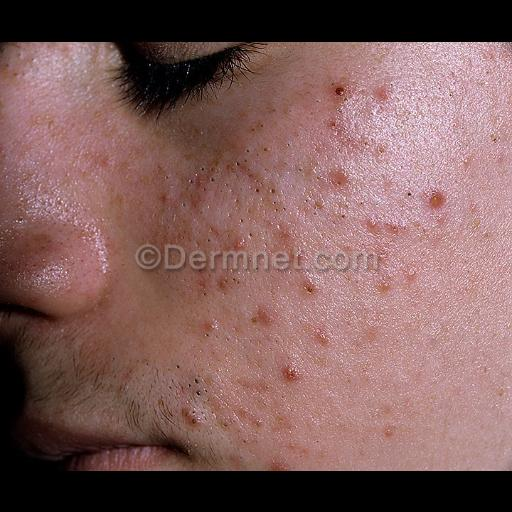Skin_Lesion: (182, 160, 222, 188), (421, 186, 449, 214), (188, 372, 212, 402), (181, 400, 205, 426), (232, 152, 258, 176), (194, 264, 210, 302), (256, 178, 282, 200), (366, 138, 392, 160), (318, 114, 344, 134), (328, 170, 350, 192), (240, 406, 262, 428), (389, 214, 409, 238), (330, 77, 348, 103), (216, 268, 232, 296), (364, 208, 380, 236), (229, 234, 251, 254), (374, 276, 394, 298), (310, 194, 328, 218), (314, 323, 332, 347), (300, 278, 320, 298), (374, 84, 394, 104), (372, 245, 390, 267), (274, 220, 292, 242), (174, 223, 190, 247), (251, 306, 269, 326), (280, 364, 300, 382), (98, 152, 118, 170), (204, 316, 222, 334), (291, 248, 309, 266), (402, 267, 420, 283), (277, 412, 291, 432), (189, 190, 205, 206), (250, 118, 266, 134), (269, 456, 287, 470), (382, 424, 396, 440), (256, 142, 272, 156), (159, 189, 171, 207), (286, 438, 298, 454), (232, 194, 242, 210)
